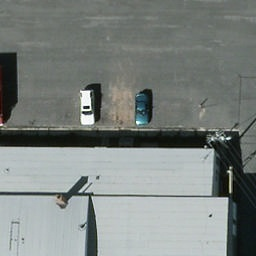car: (79, 91, 100, 126), (136, 95, 149, 125)
van: (0, 64, 4, 126)
